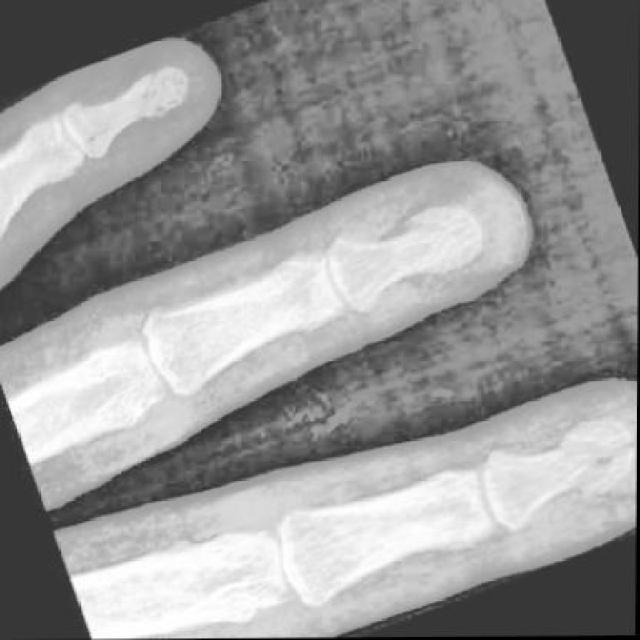Fracture: (399, 191, 498, 287), (553, 406, 638, 509)
